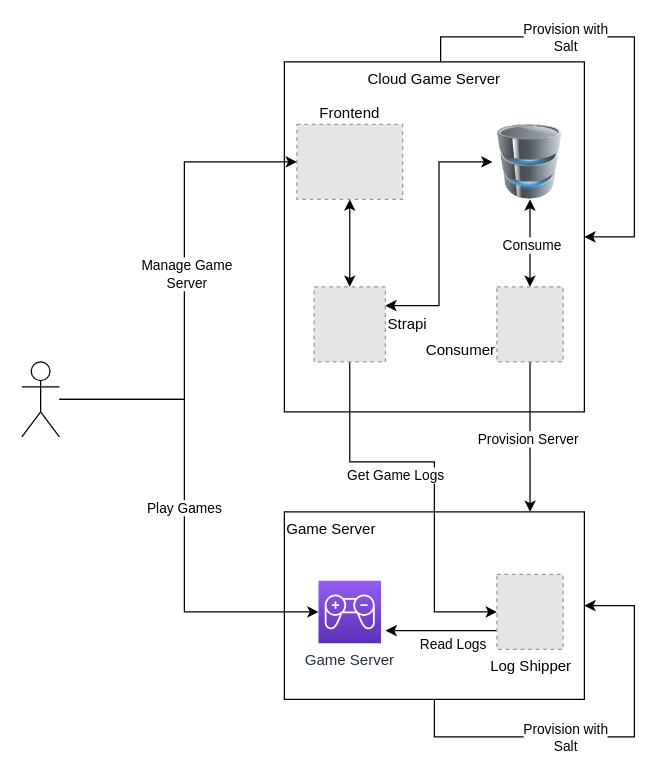
Some shapes in this 666 by 775 pixel diagram are drawn without their labels. Grey dashed boxes stand in for pictures. The shapes that lost their labels are listed below. From the top down, each one's centre as x and y in pixels, then its label:
(529,161): MySql
(40,399): Actor
